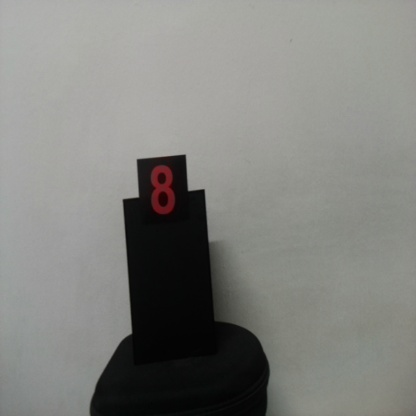id_8: (137, 159, 188, 235)
